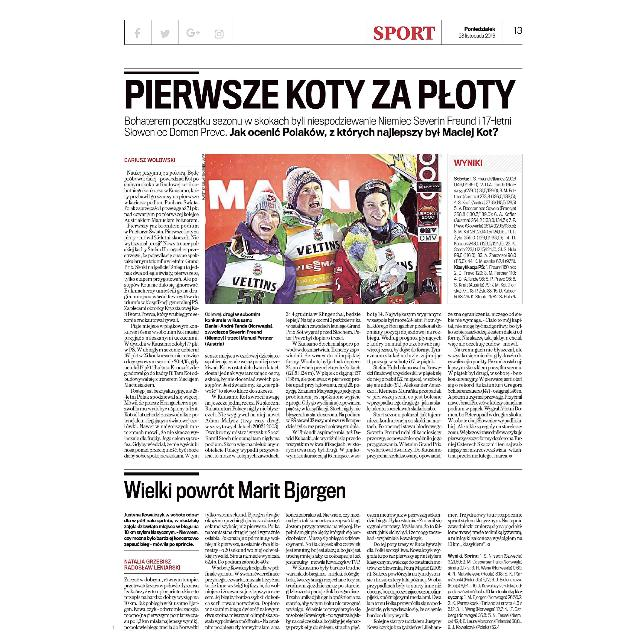article: (122, 69, 524, 463), (120, 471, 526, 635)
